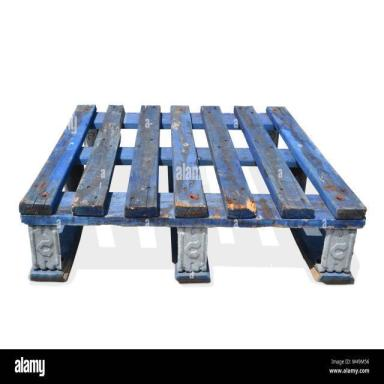pallet: (19, 104, 367, 285)
